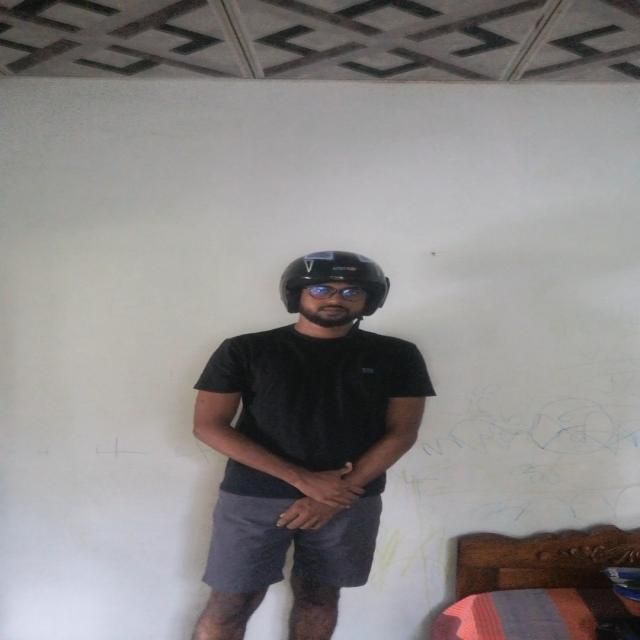Helmet_Wearer: (254, 247, 402, 365)
Person: (188, 244, 433, 640)
